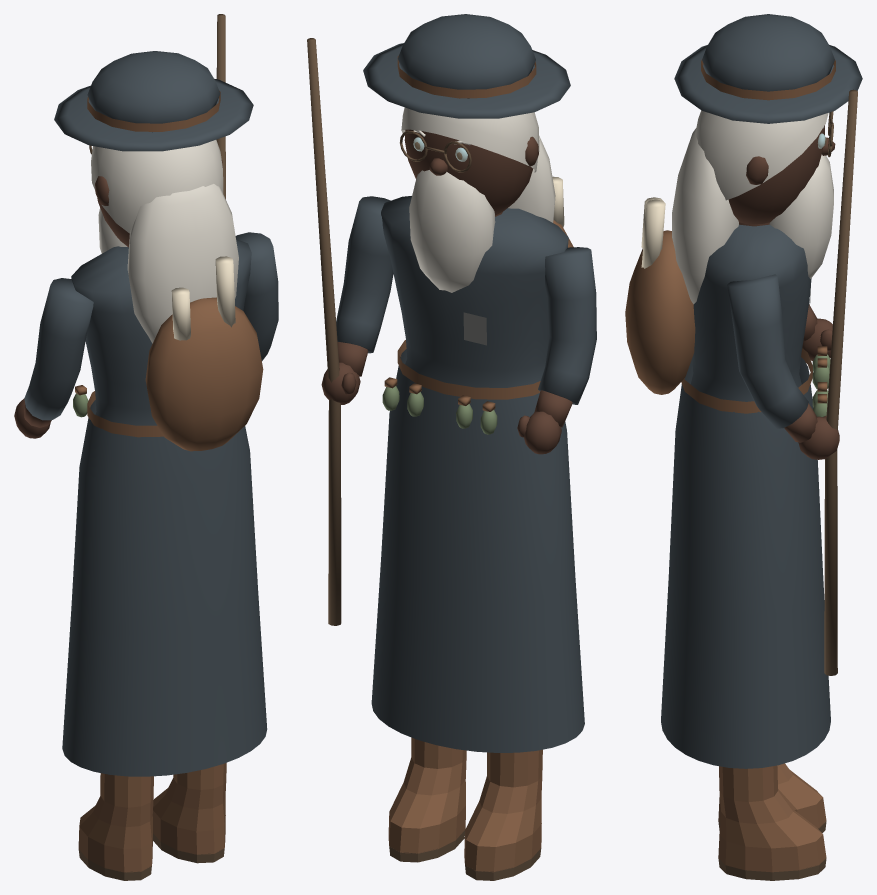
File: SM_NPC_OBSIDIANA.glb
3 renders of one model, left to right at view 1: azimuth 30°, elevation 25°; view 2: azimuth 150°, elevation 25°; view 3: azimuth 270°, elevation 25°, orthographic. The views are drawn at different scales.
Parts seen in each view (by area): view 1: SM_NPC_OBSIDIANA_BODY, SM_NPC_OBSIDIANA_HAIR, SM_NPC_OBSIDIANA_ARM_L, SM_NPC_OBSIDIANA_LEG_L, SM_NPC_OBSIDIANA_LEG_R, SM_NPC_OBSIDIANA_ARM_R, SM_NPC_OBSIDIANA_HEAD; view 2: SM_NPC_OBSIDIANA_BODY, SM_NPC_OBSIDIANA_HAIR, SM_NPC_OBSIDIANA_ARM_R, SM_NPC_OBSIDIANA_HEAD, SM_NPC_OBSIDIANA_ARM_L, SM_NPC_OBSIDIANA_LEG_L, SM_NPC_OBSIDIANA_LEG_R; view 3: SM_NPC_OBSIDIANA_BODY, SM_NPC_OBSIDIANA_HAIR, SM_NPC_OBSIDIANA_ARM_R, SM_NPC_OBSIDIANA_LEG_R, SM_NPC_OBSIDIANA_HEAD, SM_NPC_OBSIDIANA_LEG_L, SM_NPC_OBSIDIANA_ARM_L.
Boxes of the visible parts, x1,y1,x2,y2 form: SM_NPC_OBSIDIANA_BODY: (62,239,267,776); SM_NPC_OBSIDIANA_HAIR: (54,51,253,343); SM_NPC_OBSIDIANA_ARM_L: (14,278,93,438); SM_NPC_OBSIDIANA_LEG_L: (78,773,153,880); SM_NPC_OBSIDIANA_LEG_R: (152,763,226,863); SM_NPC_OBSIDIANA_ARM_R: (216,14,278,360); SM_NPC_OBSIDIANA_HEAD: (89,145,222,253); SM_NPC_OBSIDIANA_BODY: (371,176,584,752); SM_NPC_OBSIDIANA_HAIR: (363,14,570,222); SM_NPC_OBSIDIANA_ARM_R: (307,38,393,625); SM_NPC_OBSIDIANA_HEAD: (399,129,538,292); SM_NPC_OBSIDIANA_ARM_L: (517,247,596,454); SM_NPC_OBSIDIANA_LEG_L: (464,749,542,880); SM_NPC_OBSIDIANA_LEG_R: (388,737,466,862); SM_NPC_OBSIDIANA_BODY: (625,197,830,768); SM_NPC_OBSIDIANA_HAIR: (672,14,862,304); SM_NPC_OBSIDIANA_ARM_R: (727,89,857,675); SM_NPC_OBSIDIANA_LEG_R: (718,765,826,880); SM_NPC_OBSIDIANA_HEAD: (728,111,835,278); SM_NPC_OBSIDIANA_LEG_L: (718,763,826,833); SM_NPC_OBSIDIANA_ARM_L: (802,304,832,360).
Bounding box in the file's own units: 0.5578 × 1.78 × 0.4652.
